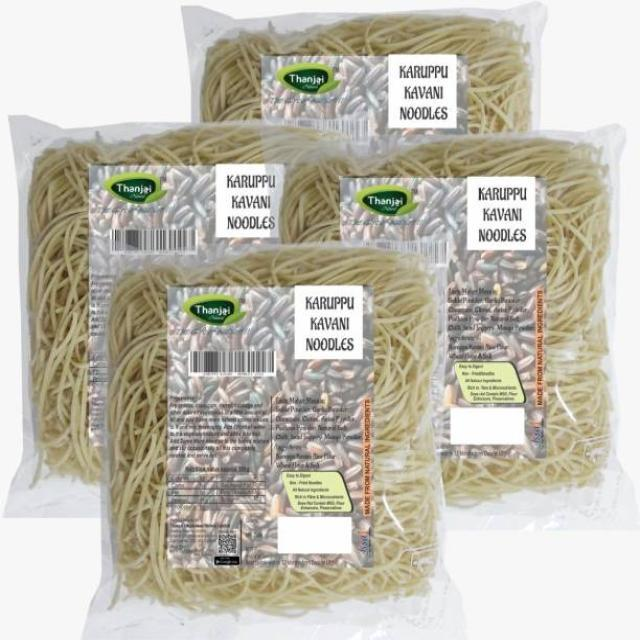noodles: (80, 208, 457, 638), (584, 594, 586, 594)
